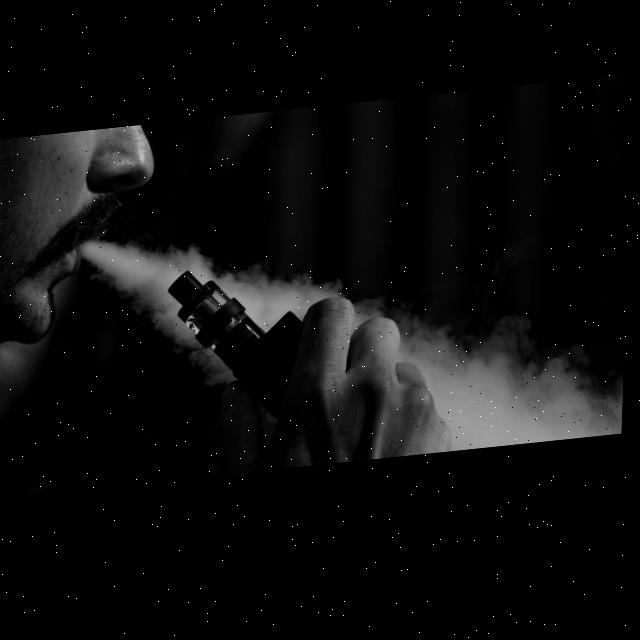vape: (165, 265, 309, 434)
